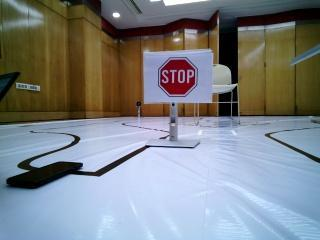stop: (149, 56, 211, 100)
